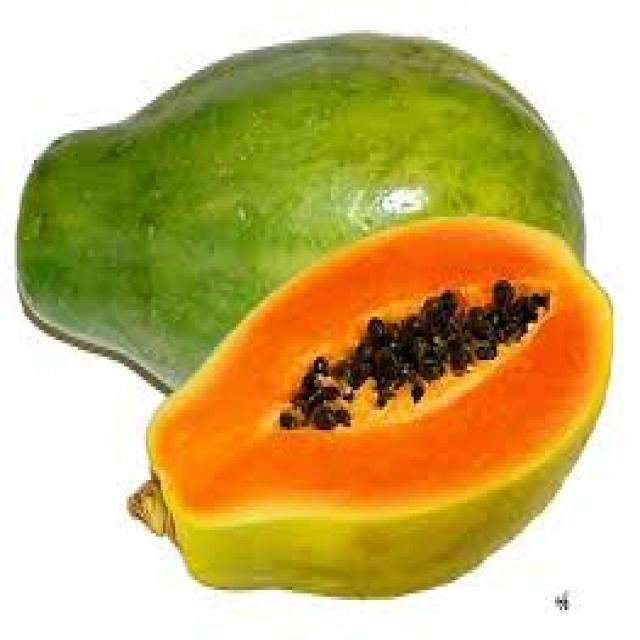organic waste: (15, 30, 584, 387), (119, 210, 611, 597)
